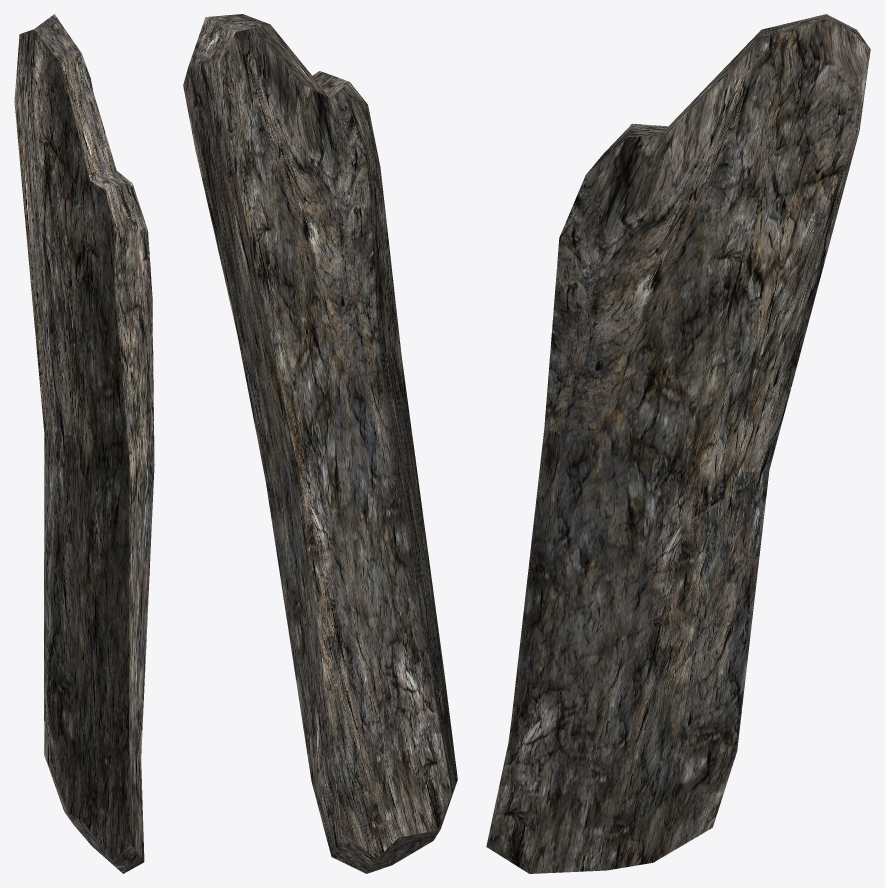
File: pir_m_prp_cav_rock_flat_large.fbx
3 views of the same model, side by side, from view 1: azimuth 30°, elevation 25°; view 2: azimuth 150°, elevation 25°; view 3: azimuth 270°, elevation 25° (orthographic). The views are drawn at different scales.
Visible parts, largest first — view 1: pir_m_prp_cav_rock_bridge:rock_bridge; view 2: pir_m_prp_cav_rock_bridge:rock_bridge; view 3: pir_m_prp_cav_rock_bridge:rock_bridge.
Part boxes in pixels (left/top/right/bottom): pir_m_prp_cav_rock_bridge:rock_bridge: left=14, top=14, right=154, bottom=873; pir_m_prp_cav_rock_bridge:rock_bridge: left=183, top=14, right=457, bottom=873; pir_m_prp_cav_rock_bridge:rock_bridge: left=486, top=14, right=870, bottom=873.
Size of the model in its own units: 1052 by 10147 by 3969.
1 material, 1 textured.
